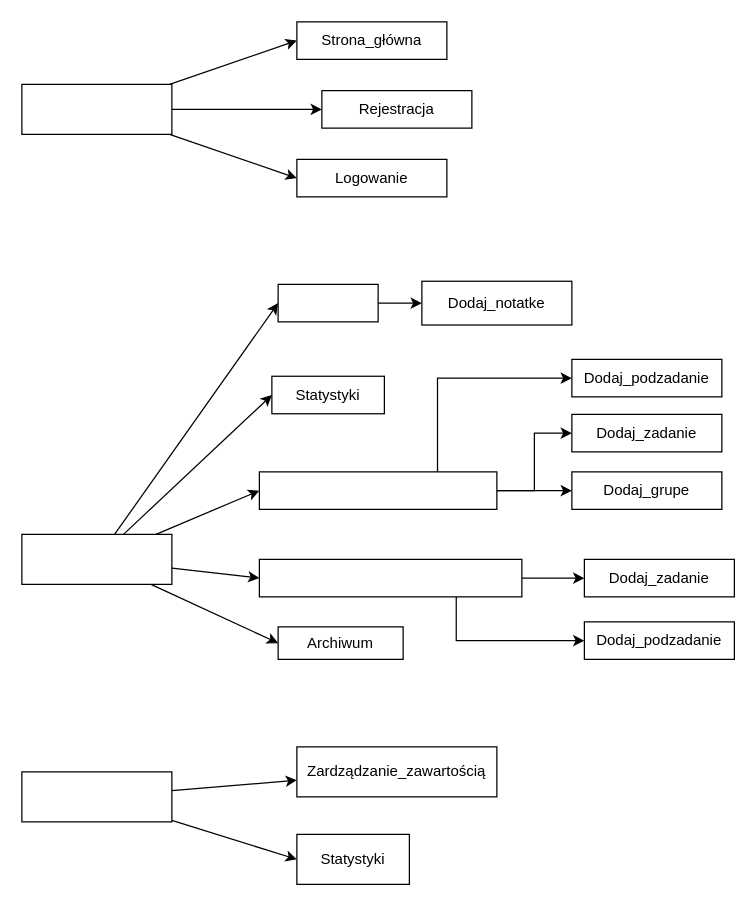
Some shapes in this 756 by 906 pixel diagram are drawn without their labels. Each missing label, with the centre of its shape:
Administrator: the point at 96,796
Grupy_zadań: the point at 377,490
Niezalogowany: the point at 96,108
Notatki: the point at 327,302
Zadania: the point at 390,577
Zalogowany: the point at 96,558
